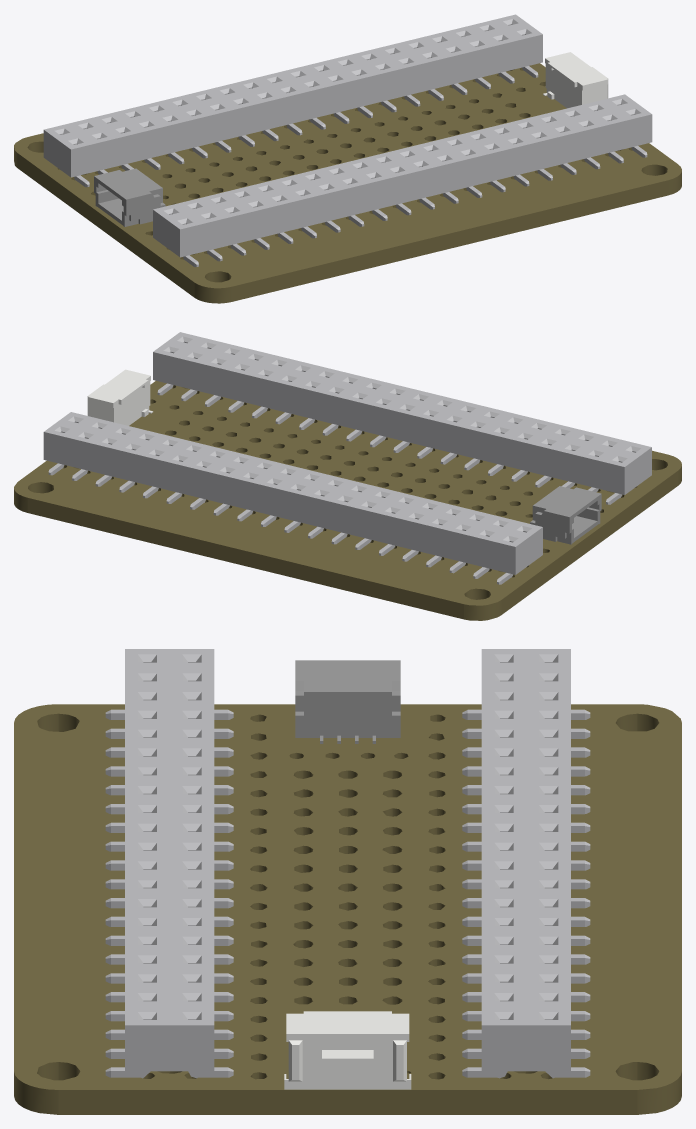
Rendered from ada-5905.glb.
3 renders of one model, top to bottom at view 1: azimuth 30°, elevation 25°; view 2: azimuth 150°, elevation 25°; view 3: azimuth 270°, elevation 25°, orthographic. The views are drawn at different scales.
Parts seen in each view (by area): view 1: 0.5833333333333334_0.5833333333333334_0.5833333333333334_0.8, 0.16666666666666666_0.16666666666666666_0.08333333333333333_, 0.3333333333333333_0.3333333333333333_0.3333333333333333_0, 0.9166666666666666_0.9166666666666666_0.9166666666666666_0.8; view 2: 0.5833333333333334_0.5833333333333334_0.5833333333333334_0.8, 0.16666666666666666_0.16666666666666666_0.08333333333333333_, 0.3333333333333333_0.3333333333333333_0.3333333333333333_0, 0.9166666666666666_0.9166666666666666_0.9166666666666666_0.8; view 3: 0.16666666666666666_0.16666666666666666_0.08333333333333333_, 0.5833333333333334_0.5833333333333334_0.5833333333333334_0.8, 0.9166666666666666_0.9166666666666666_0.9166666666666666_0.8, 0.3333333333333333_0.3333333333333333_0.3333333333333333_0.
Boxes of the visible parts, box(x1,y1,x2,y2) form: 0.5833333333333334_0.5833333333333334_0.5833333333333334_0.8: box(43, 14, 652, 267); 0.16666666666666666_0.16666666666666666_0.08333333333333333_: box(14, 63, 681, 303); 0.3333333333333333_0.3333333333333333_0.3333333333333333_0: box(94, 168, 165, 226); 0.9166666666666666_0.9166666666666666_0.9166666666666666_0.8: box(543, 52, 608, 108); 0.5833333333333334_0.5833333333333334_0.5833333333333334_0.8: box(43, 332, 651, 584); 0.16666666666666666_0.16666666666666666_0.08333333333333333_: box(14, 381, 681, 620); 0.3333333333333333_0.3333333333333333_0.3333333333333333_0: box(530, 486, 601, 544); 0.9166666666666666_0.9166666666666666_0.9166666666666666_0.8: box(87, 369, 153, 425); 0.16666666666666666_0.16666666666666666_0.08333333333333333_: box(14, 704, 681, 1114); 0.5833333333333334_0.5833333333333334_0.5833333333333334_0.8: box(105, 649, 590, 1078); 0.9166666666666666_0.9166666666666666_0.9166666666666666_0.8: box(284, 1011, 411, 1089); 0.3333333333333333_0.3333333333333333_0.3333333333333333_0: box(295, 660, 400, 743).
Bounding box in the file's own units: 5.32 × 0.5341 × 3.81.
